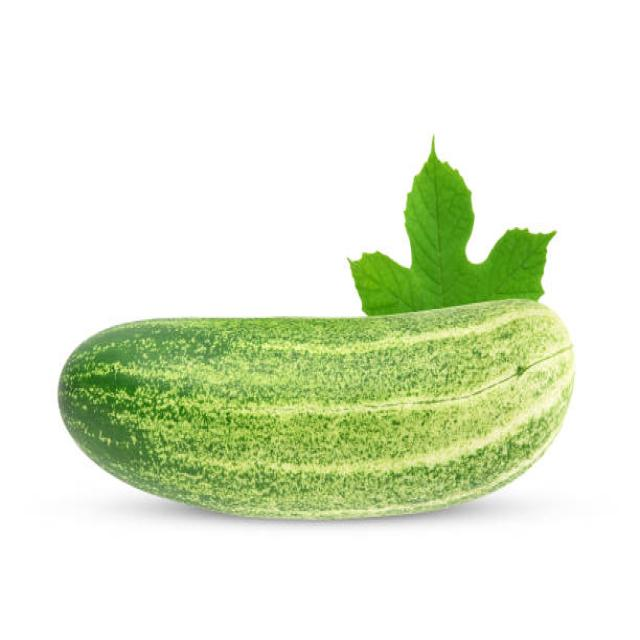cucumber: (56, 297, 574, 518)
